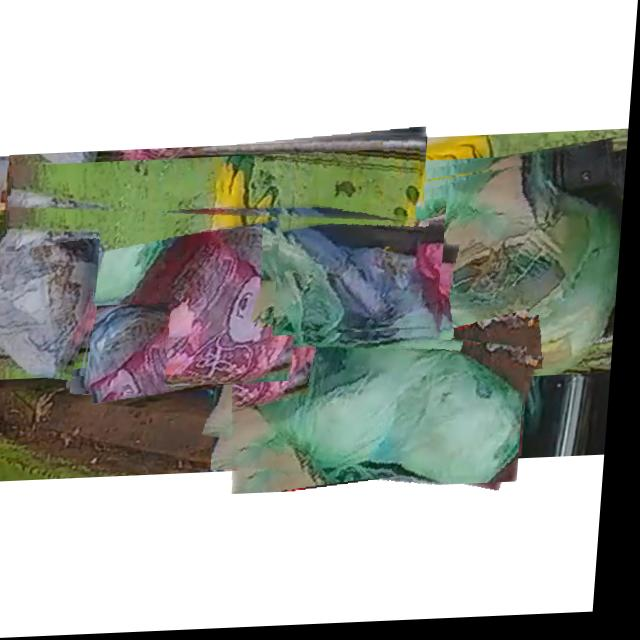general_trashbag: (366, 169, 624, 375), (238, 320, 529, 489)
other_trashbag: (95, 222, 302, 388), (13, 156, 427, 218), (284, 219, 441, 335), (0, 217, 99, 379), (80, 306, 176, 390)
